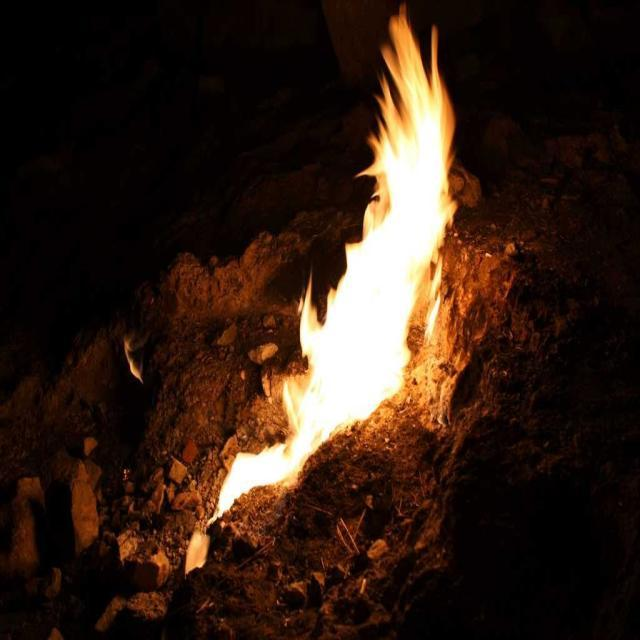Fire: (372, 126, 428, 368), (311, 280, 364, 460), (234, 444, 298, 486)
